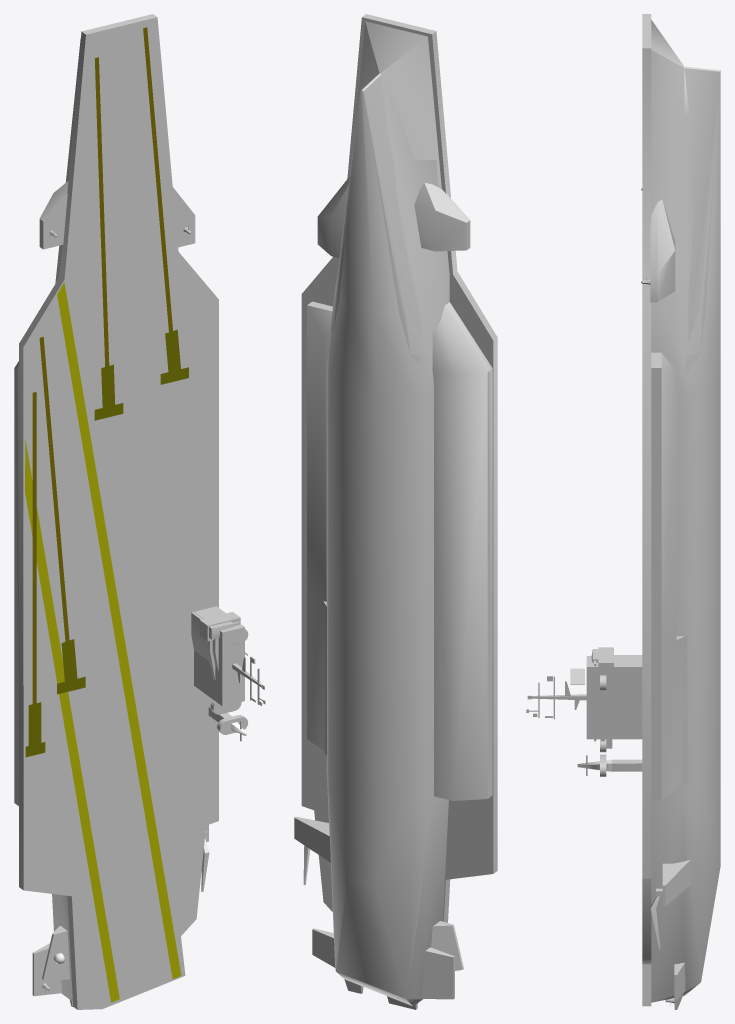
Rendered from cvn68.glb.
3 renders of one model, left to right at view 1: azimuth 30°, elevation 25°; view 2: azimuth 150°, elevation 25°; view 3: azimuth 270°, elevation 25°, orthographic. The views are drawn at different scales.
Parts seen in each view (by area): view 1: db_roos_al_newLOD_LOD child0_deck1_p13738_Geometry_0.001, db_roos_al_newLOD_LOD child0_runway1_p14406_Geometry_0.001, db_roos_al_newLOD_LOD child0_sponson_pl77_Geometry_0.001, db_roos_al_newLOD_LOD child0_cats1_p14001_Geometry_0.001, db_roos_al_newLOD_LOD child0_pads1_p14009_Geometry_0.001, db_roos_al_newLOD_LOD child0_ss3_p14390_Geometry_0.001, db_roos_al_newLOD_LOD child0_ss1_pl194_Geometry_0.001, db_roos_al_newLOD_LOD child0_hull1_pl128_Geometry_0.001, db_roos_al_newLOD_LOD child0_glass1_p13893_Geometry_0.001; view 2: db_roos_al_newLOD_LOD child0_hull1_pl128_Geometry_0.001, db_roos_al_newLOD_LOD child0_sponson_pl77_Geometry_0.001, db_roos_al_newLOD_LOD child0_hull3_p14363_Geometry_0.001, db_roos_al_newLOD_LOD child0_deck1_p13738_Geometry_0.001; view 3: db_roos_al_newLOD_LOD child0_hull1_pl128_Geometry_0.001, db_roos_al_newLOD_LOD child0_sponson_pl77_Geometry_0.001, db_roos_al_newLOD_LOD child0_hull3_p14363_Geometry_0.001, db_roos_al_newLOD_LOD child0_deck1_p13738_Geometry_0.001, db_roos_al_newLOD_LOD child0_ss3_p14390_Geometry_0.001, db_roos_al_newLOD_LOD child0_ss1_pl194_Geometry_0.001, db_roos_al_newLOD_LOD child0_glass1_p13893_Geometry_0.001.
Boxes of the visible parts, x1,y1,x2,y2 form: db_roos_al_newLOD_LOD child0_deck1_p13738_Geometry_0.001: (19, 14, 218, 1009); db_roos_al_newLOD_LOD child0_runway1_p14406_Geometry_0.001: (25, 282, 181, 1002); db_roos_al_newLOD_LOD child0_sponson_pl77_Geometry_0.001: (14, 181, 208, 1006); db_roos_al_newLOD_LOD child0_cats1_p14001_Geometry_0.001: (32, 27, 172, 703); db_roos_al_newLOD_LOD child0_pads1_p14009_Geometry_0.001: (25, 329, 188, 757); db_roos_al_newLOD_LOD child0_ss3_p14390_Geometry_0.001: (194, 606, 244, 706); db_roos_al_newLOD_LOD child0_ss1_pl194_Geometry_0.001: (191, 612, 265, 741); db_roos_al_newLOD_LOD child0_hull1_pl128_Geometry_0.001: (52, 255, 72, 1001); db_roos_al_newLOD_LOD child0_glass1_p13893_Geometry_0.001: (199, 612, 240, 641); db_roos_al_newLOD_LOD child0_hull1_pl128_Geometry_0.001: (301, 17, 493, 1006); db_roos_al_newLOD_LOD child0_sponson_pl77_Geometry_0.001: (294, 176, 492, 1009); db_roos_al_newLOD_LOD child0_hull3_p14363_Geometry_0.001: (327, 21, 449, 996); db_roos_al_newLOD_LOD child0_deck1_p13738_Geometry_0.001: (362, 14, 497, 922); db_roos_al_newLOD_LOD child0_hull1_pl128_Geometry_0.001: (651, 66, 720, 1009); db_roos_al_newLOD_LOD child0_sponson_pl77_Geometry_0.001: (650, 200, 691, 1000); db_roos_al_newLOD_LOD child0_hull3_p14363_Geometry_0.001: (651, 20, 720, 931); db_roos_al_newLOD_LOD child0_deck1_p13738_Geometry_0.001: (642, 14, 651, 1006); db_roos_al_newLOD_LOD child0_ss3_p14390_Geometry_0.001: (586, 656, 642, 739); db_roos_al_newLOD_LOD child0_ss1_pl194_Geometry_0.001: (526, 650, 642, 776); db_roos_al_newLOD_LOD child0_glass1_p13893_Geometry_0.001: (592, 647, 613, 686).
Bounding box in the file's own units: 68.4 × 317 × 57.76.
